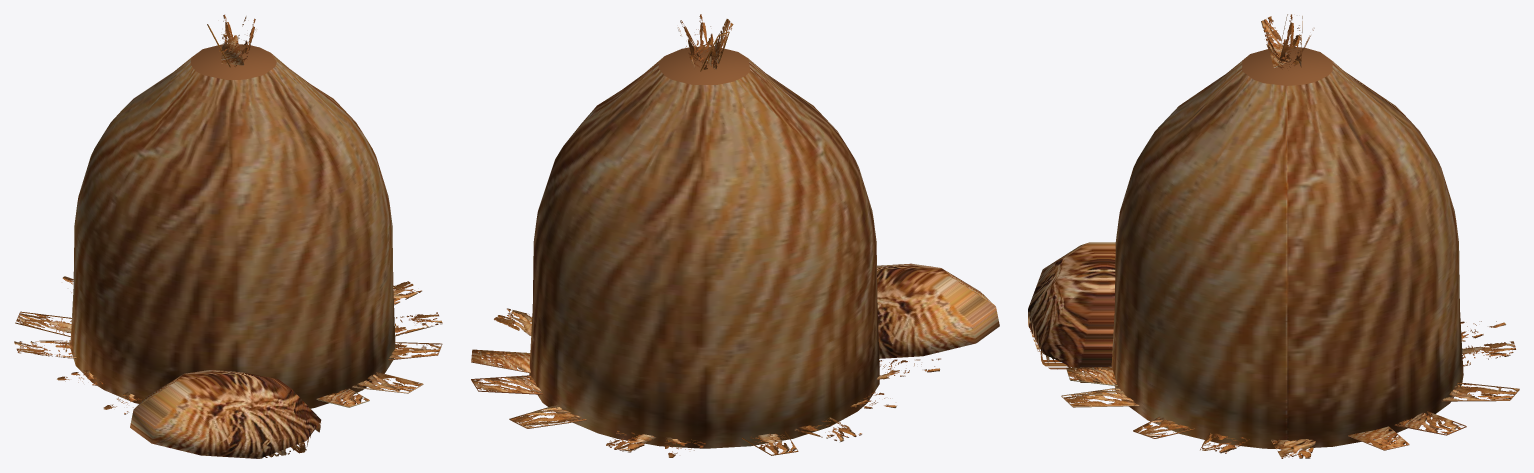
File: toad-prop3d-haystack-lo.glb
The picture shows the model from 3 angles, left to right: view 1: azimuth 30°, elevation 25°; view 2: azimuth 150°, elevation 25°; view 3: azimuth 270°, elevation 25°; orthographic projection. The views are drawn at different scales.
Visible parts, largest first — view 1: hay; view 2: hay; view 3: hay.
Boxes of the visible parts, box(x1,y1,x2,y2) form: hay: box(14, 14, 442, 458); hay: box(471, 14, 999, 457); hay: box(1028, 14, 1519, 458).
Size of the model in its own units: 0.18 by 0.16 by 0.1934.
1 material, 1 textured.
